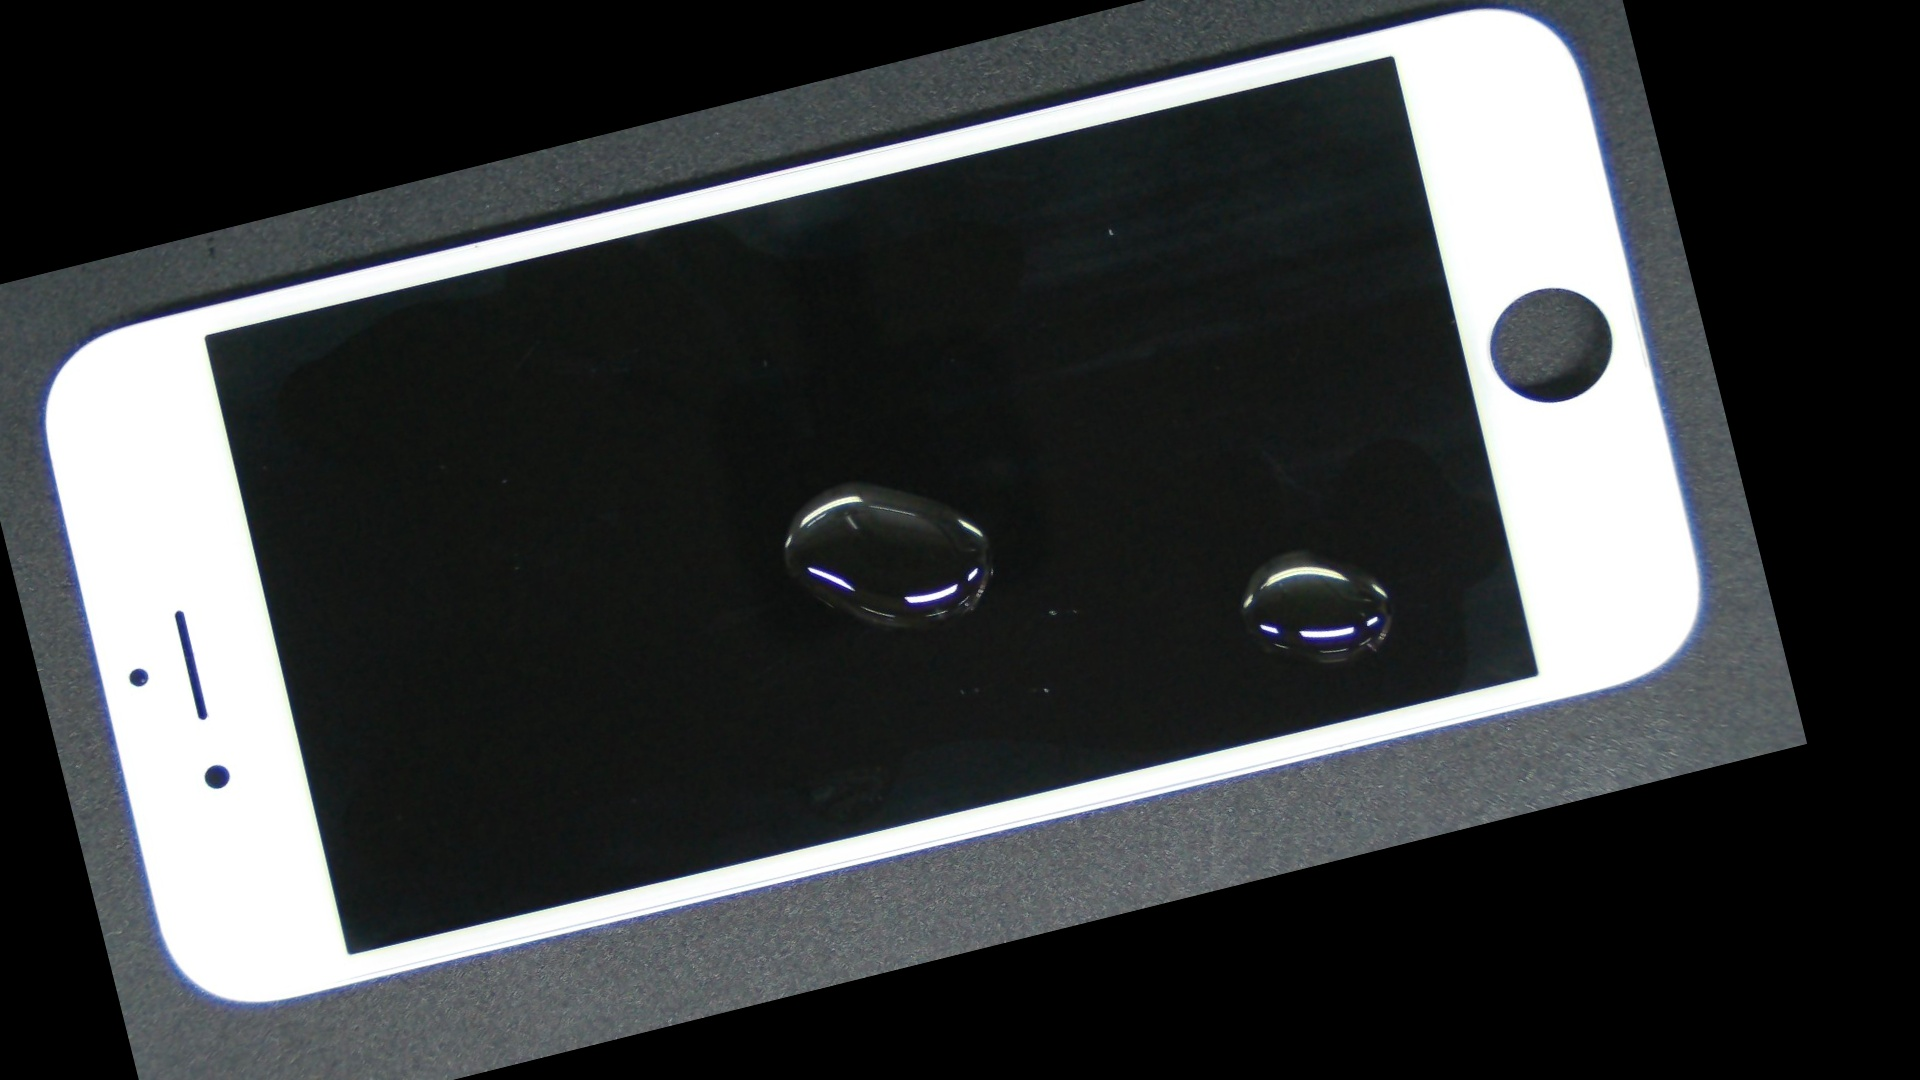oil: (615, 165, 1801, 980), (393, 193, 1287, 777)
